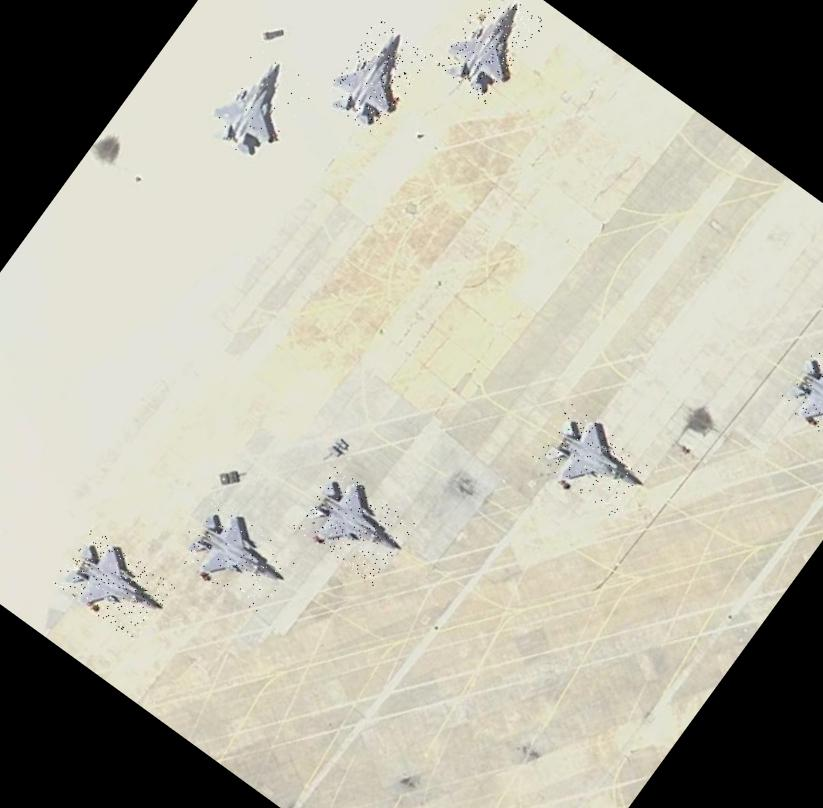A13: (171, 495, 298, 616), (290, 466, 416, 585), (529, 403, 656, 521), (50, 526, 174, 643), (199, 45, 316, 168), (318, 16, 432, 137), (430, 0, 545, 105), (775, 343, 823, 459)
